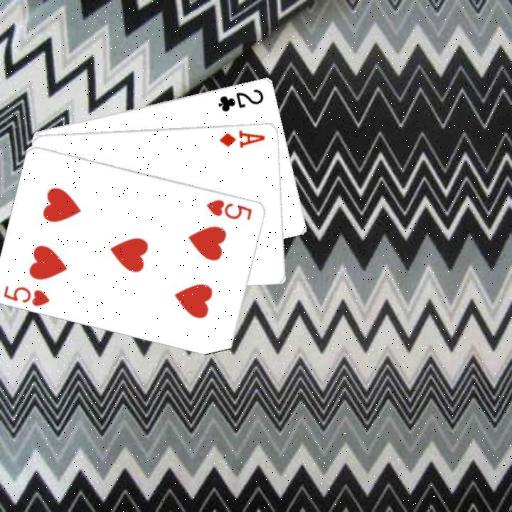2C: (215, 85, 266, 113)
5H: (1, 282, 52, 308), (204, 196, 254, 222)
AD: (217, 127, 267, 149)
